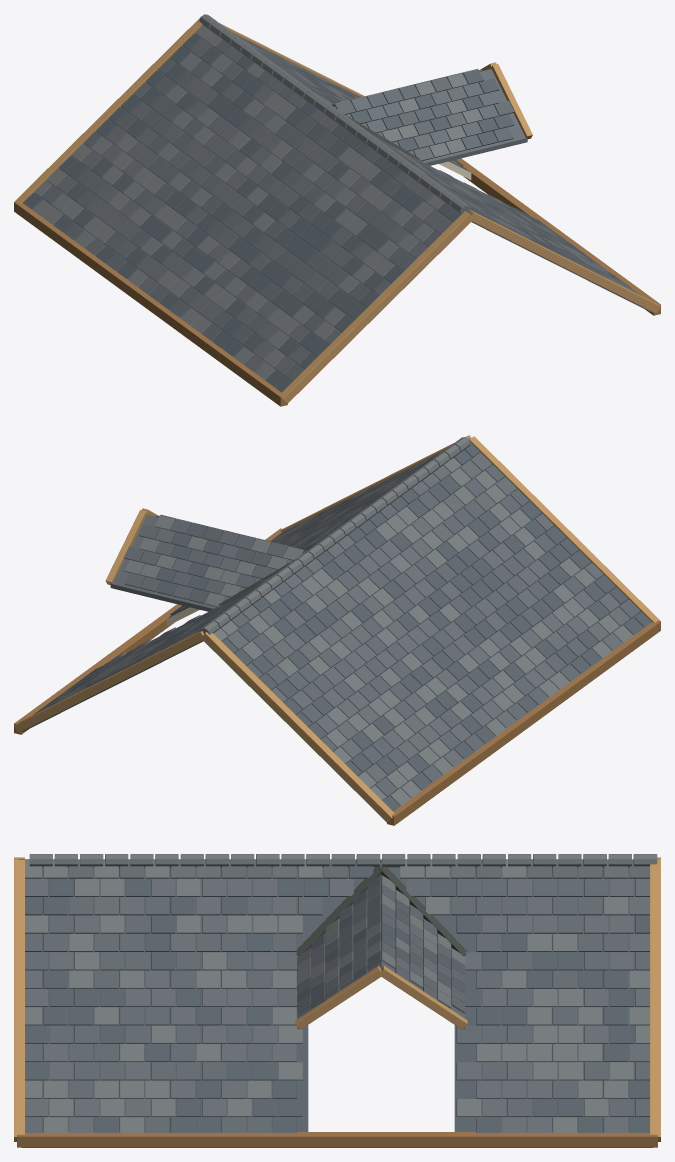
File: SM_PlayerHouse_Roof.fbx
3 views of the same model, one above another, from view 1: azimuth 30°, elevation 25°; view 2: azimuth 150°, elevation 25°; view 3: azimuth 270°, elevation 25° (orthographic). The views are drawn at different scales.
Parts seen in each view (by area): view 1: SM_PlayerHouse_Roof; view 2: SM_PlayerHouse_Roof; view 3: SM_PlayerHouse_Roof.
Boxes of the visible parts, left/top/right/bottom form: SM_PlayerHouse_Roof: left=14, top=14, right=660, bottom=406; SM_PlayerHouse_Roof: left=14, top=435, right=660, bottom=825; SM_PlayerHouse_Roof: left=14, top=854, right=660, bottom=1147.
Bounding box in the file's own units: 902 × 1105 × 346.
